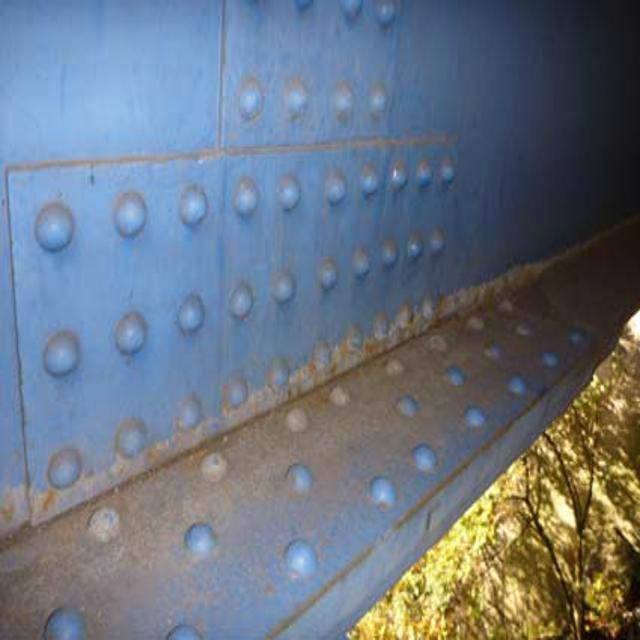corrosion: (21, 242, 568, 582)
